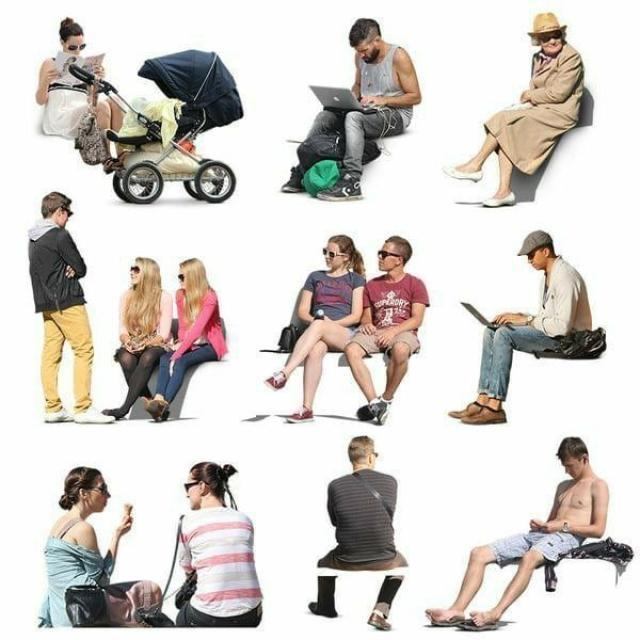person: (423, 436, 610, 628), (447, 230, 592, 424), (442, 12, 584, 207), (280, 17, 422, 201), (36, 465, 165, 628), (27, 190, 116, 424), (307, 434, 408, 631), (342, 235, 430, 424), (172, 460, 264, 628), (140, 256, 228, 422), (35, 16, 127, 173), (101, 257, 174, 420)
